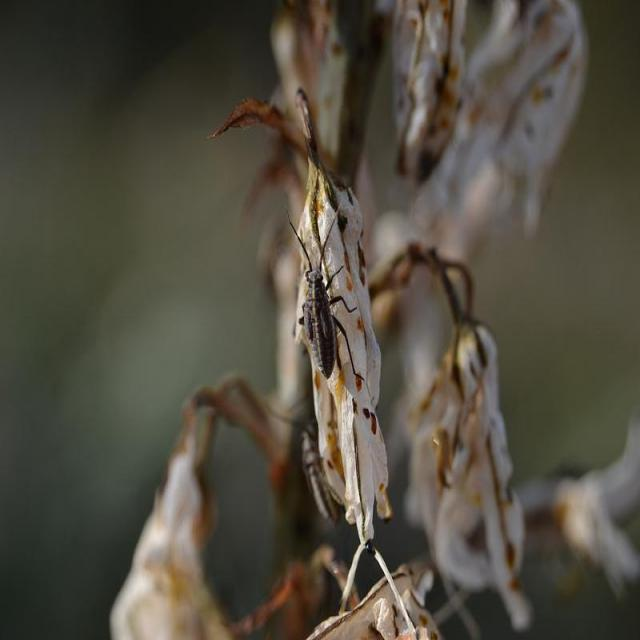Miridae-Adult-: (281, 204, 372, 378)
